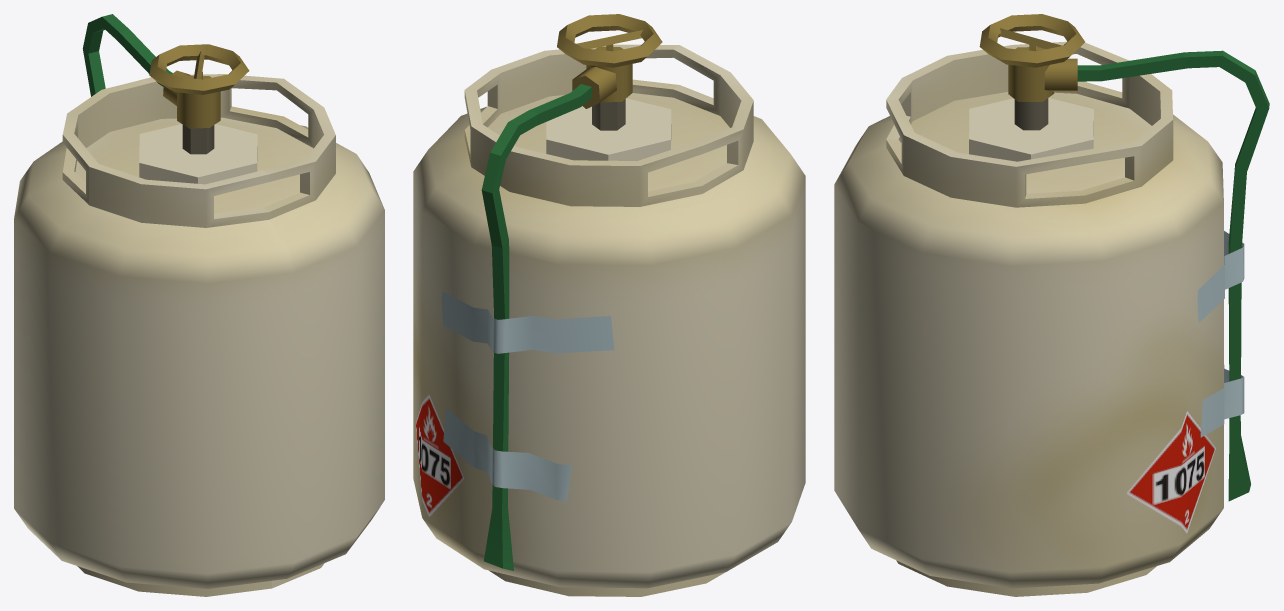
The model's file is env_propainTank.fbx.
3 renders of one model, left to right at view 1: azimuth 30°, elevation 25°; view 2: azimuth 150°, elevation 25°; view 3: azimuth 270°, elevation 25°, orthographic. The views are drawn at different scales.
Visible parts, largest first — view 1: propainTank; view 2: propainTank; view 3: propainTank.
Boxes of the visible parts, x1=… form: propainTank: x1=14, y1=14, x2=384, y2=596; propainTank: x1=413, y1=14, x2=805, y2=596; propainTank: x1=834, y1=14, x2=1269, y2=596.
Size of the model in its own units: 13.06 by 18.42 by 14.52.
